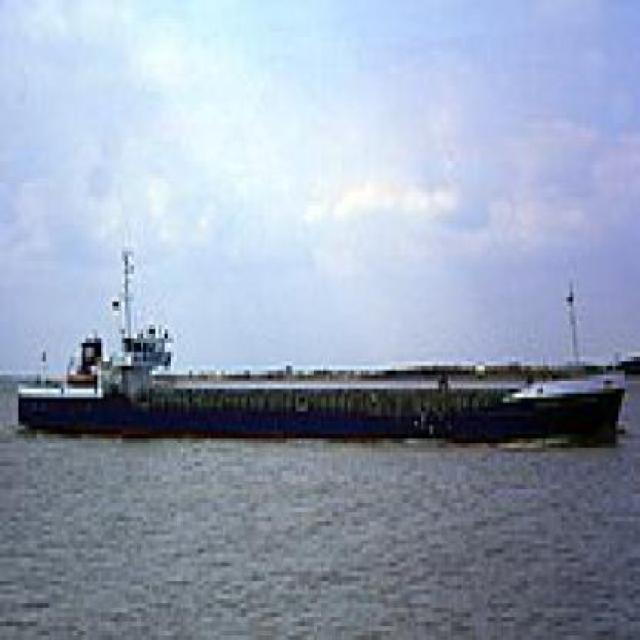container: (1, 253, 635, 459)
